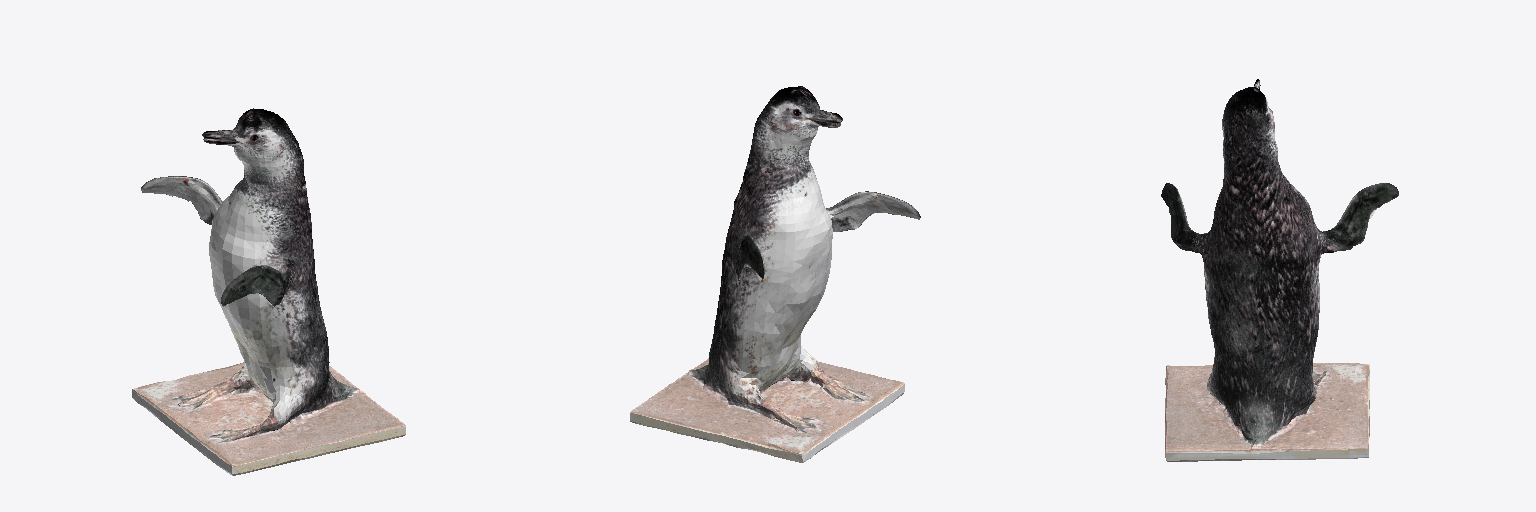
3 views of the same model, side by side, from view 1: azimuth 30°, elevation 25°; view 2: azimuth 150°, elevation 25°; view 3: azimuth 270°, elevation 25° (orthographic).
Visible parts, largest first — view 1: polySurface2; view 2: polySurface2; view 3: polySurface2.
Boxes of the visible parts, <box> form: polySurface2: <box>132,108,405,475</box>; polySurface2: <box>630,86,920,462</box>; polySurface2: <box>1161,79,1398,461</box>.
Size of the model in its own units: 320 by 522 by 350.
Materials: 1 (1 with a texture image).